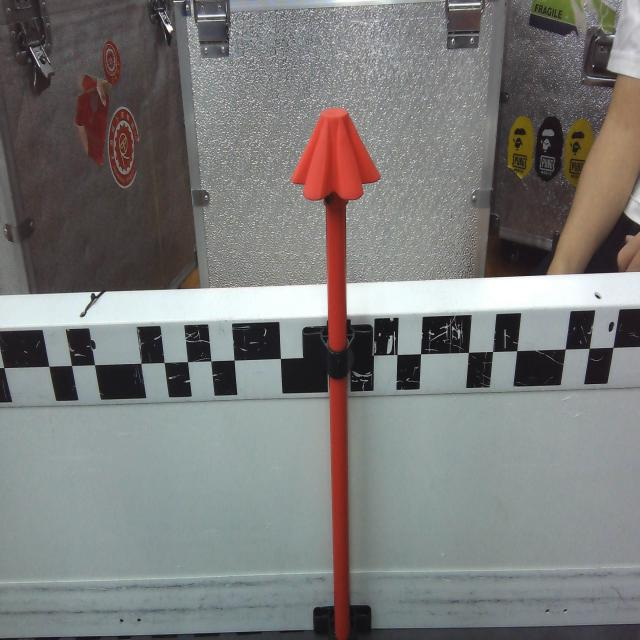zred-Stake-Head: (291, 108, 381, 201)
